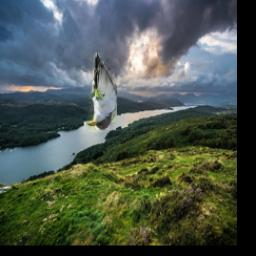Cuckoo: (87, 52, 117, 130)
